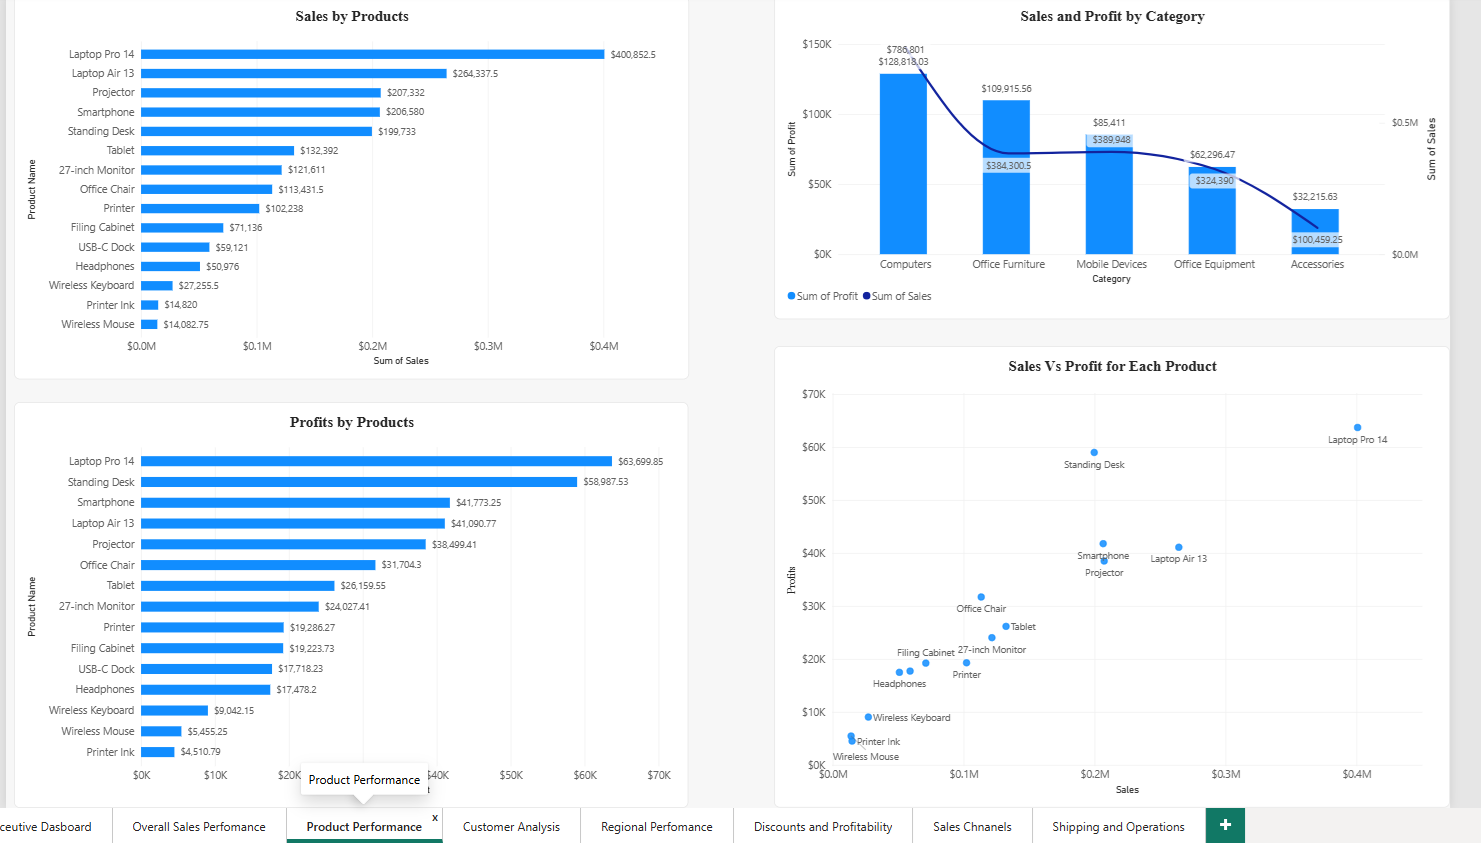

This screenshot's page, from the dashboard's own definition file:
{"tool":"powerbi","page":{"name":"Product Performance","canvas":[1920,1080],"ordinal":2},"visuals":[{"type":"clusteredBarChart","title":"Sales by Products","fields":{"Category":["Products.Product Name"],"Y":["Sum(Sales Data.Sales)"]},"box":[10.5,0,897.8,509.6],"z":0},{"type":"clusteredBarChart","title":"Profits by Products","fields":{"Category":["Products.Product Name"],"Y":["Sum(Sales Data.Profit)"]},"box":[10.2,539.8,897.3,539.8],"z":1000},{"type":"scatterChart","title":"Sales Vs Profit for Each Product","fields":{"X":["Sum(Sales Data.Sales)"],"Y":["Sum(Sales Data.Profit)"],"Category":["Products.Product Name"]},"box":[1021.3,465.4,898.7,614.2],"z":2000},{"type":"lineClusteredColumnComboChart","title":"Sales and Profit by Category","fields":{"Category":["Products.Category"],"Y":["Sum(Sales Data.Profit)"],"Y2":["Sum(Sales Data.Sales)"]},"box":[1021.3,0,898.7,430.4],"z":3000}]}

Visuals, with their boxes on the page's 1920x1080 design canvas (x1, y1, x2, y2). These are canvas units, not pixel positions in the 1481x843 screenshot, which may show the page scaled, cropped or inside an application window:
"Sales by Products" clusteredBarChart: 10, 0, 908, 510
"Profits by Products" clusteredBarChart: 10, 540, 908, 1080
"Sales Vs Profit for Each Product" scatterChart: 1021, 465, 1920, 1080
"Sales and Profit by Category" lineClusteredColumnComboChart: 1021, 0, 1920, 430
